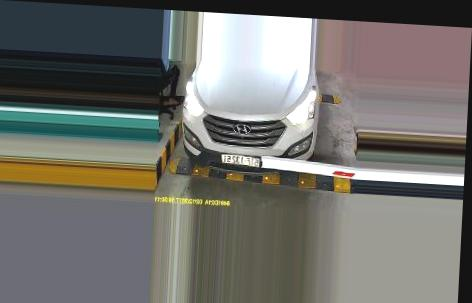License_Plate: (220, 152, 263, 169)
